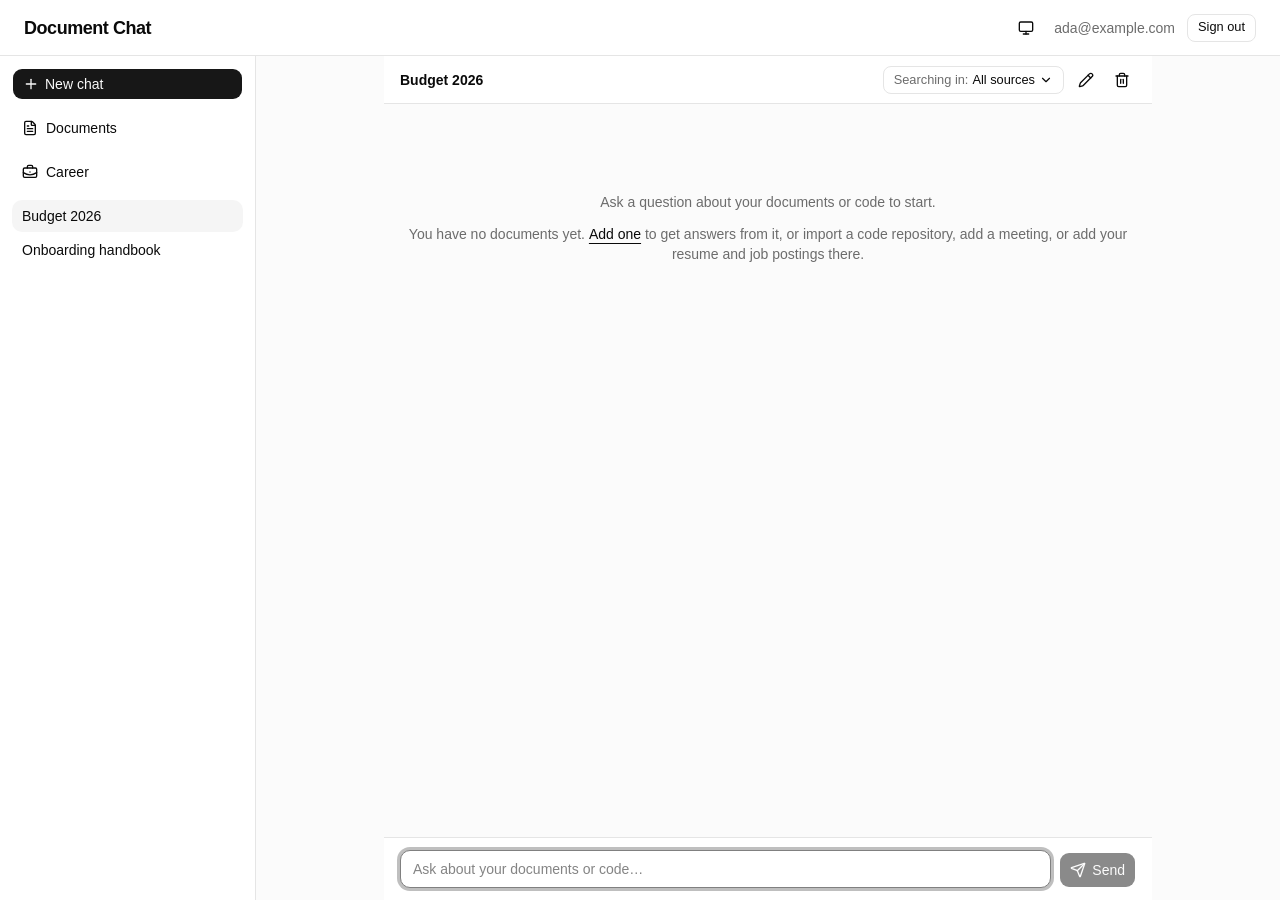
chat header › renaming › saves the new title and shows it in the header and the list
Click the button named "Rename chat" at (1086, 80), box [1072, 66, 1100, 94]
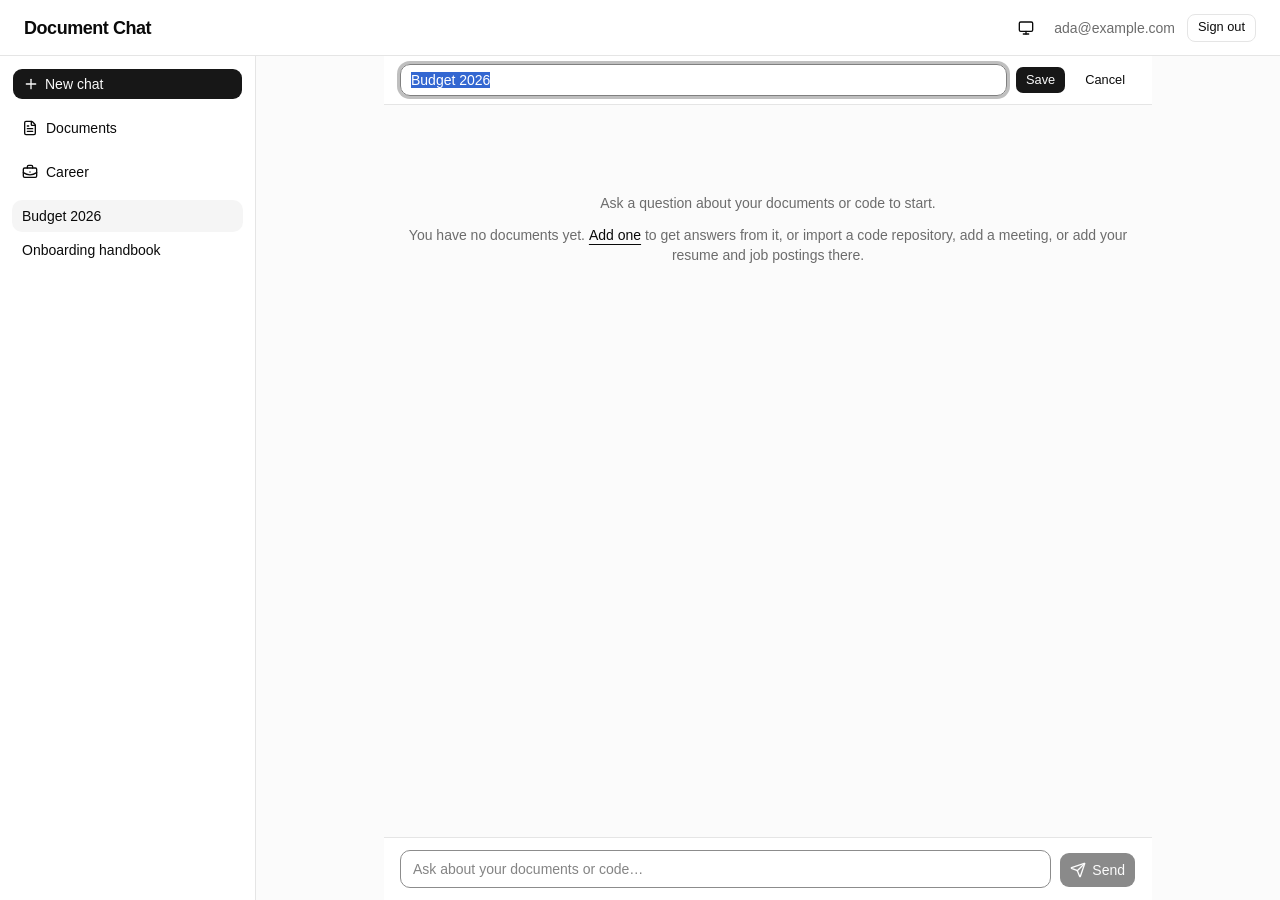
Result: the field named "Chat title" holds "Budget 2026"
Replace the text in the field named "Chat title" with "  Q4 budget  " at (704, 80), box [400, 64, 1007, 96]
Then press Enter
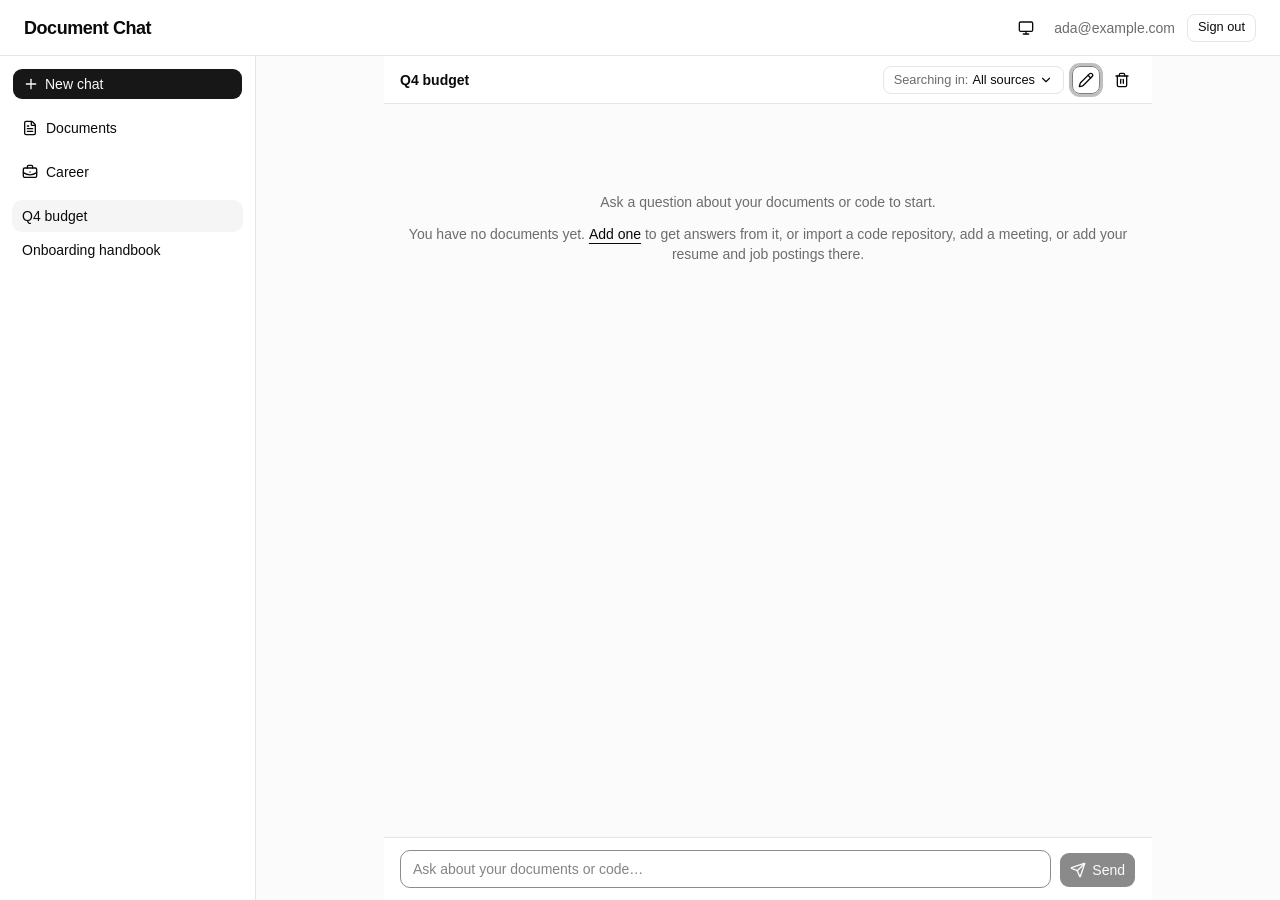
Result: the heading "Q4 budget" is shown at [400, 72, 469, 88]
Result: the link "Q4 budget" is shown at [12, 200, 243, 232]
